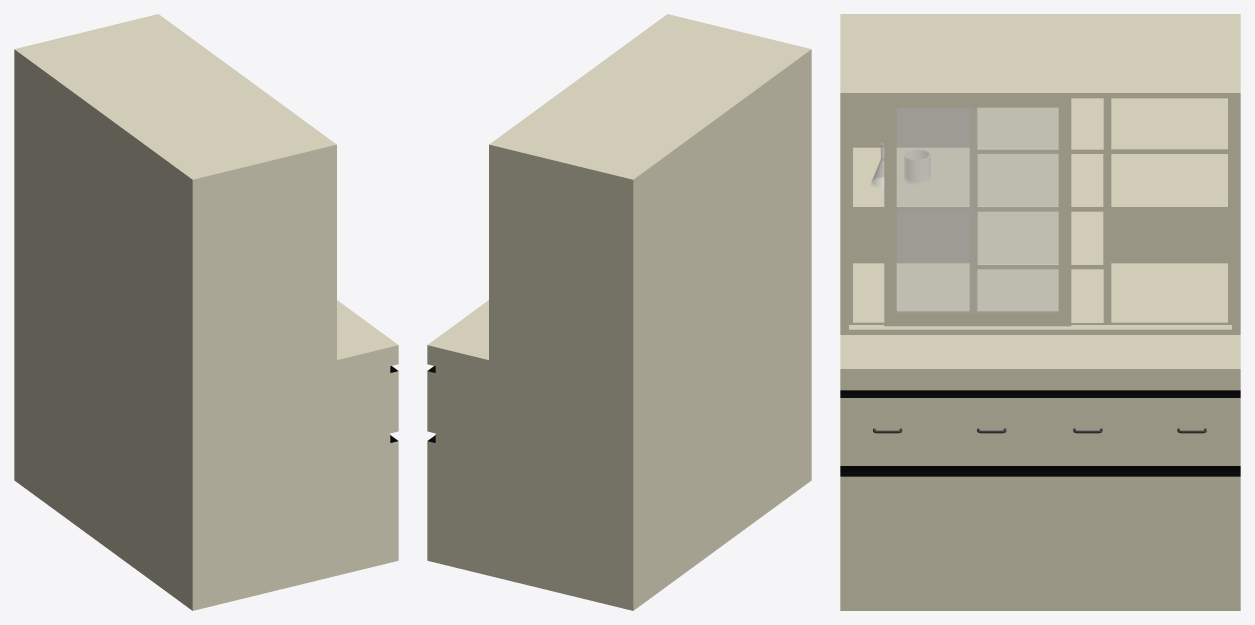
The model's file is LaboratoryEquipmentStorage.glb.
3 renders of one model, left to right at view 1: azimuth 30°, elevation 25°; view 2: azimuth 150°, elevation 25°; view 3: azimuth 270°, elevation 25°, orthographic. The views are drawn at different scales.
Visible parts, largest first — view 1: Cube; view 2: Cube; view 3: Cube.
Boxes of the visible parts, bbox=[...] form: Cube: bbox=[14, 14, 398, 610]; Cube: bbox=[427, 14, 811, 610]; Cube: bbox=[840, 14, 1240, 610].
Bounding box in the file's own units: 10.25 × 20 × 15.
